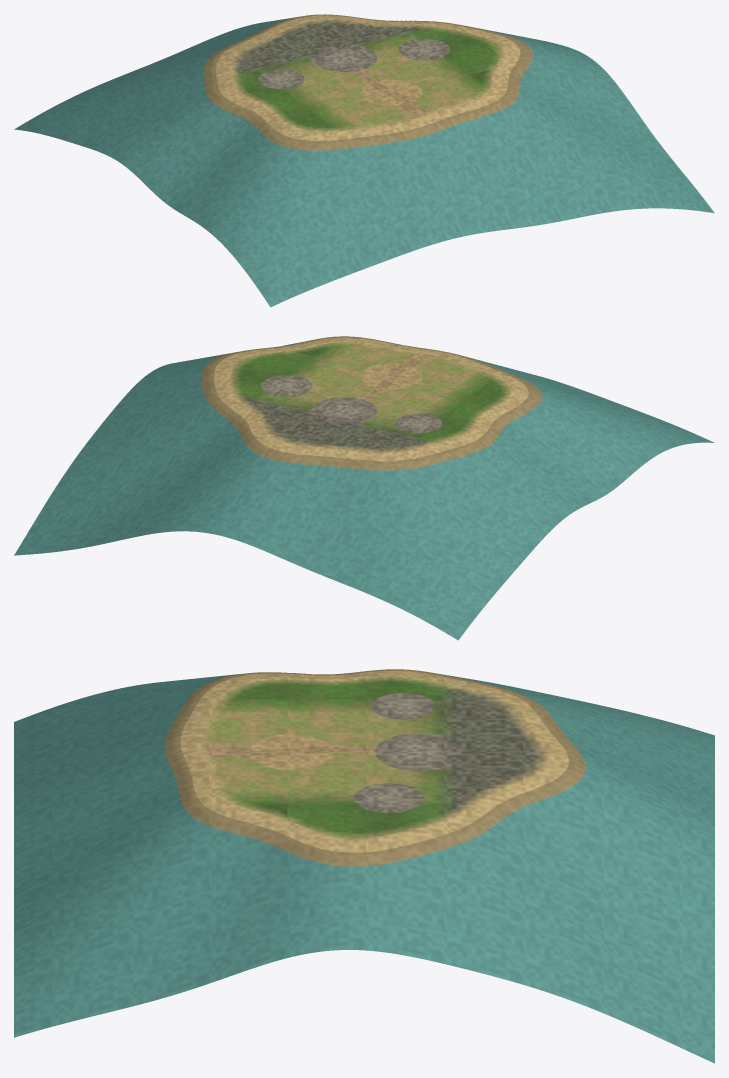
The model's file is SM_island_ground.glb.
The picture shows the model from 3 angles, top to bottom: view 1: azimuth 30°, elevation 25°; view 2: azimuth 150°, elevation 25°; view 3: azimuth 270°, elevation 25°; orthographic projection. The views are drawn at different scales.
Visible parts, largest first — view 1: SM_island_ground; view 2: SM_island_ground; view 3: SM_island_ground.
Part boxes in pixels (left/top/right/bottom): SM_island_ground: left=14, top=14, right=714, bottom=307; SM_island_ground: left=14, top=336, right=714, bottom=640; SM_island_ground: left=14, top=669, right=714, bottom=1063.
Size of the model in its own units: 200 by 51.44 by 200.
1 material, 1 textured.
